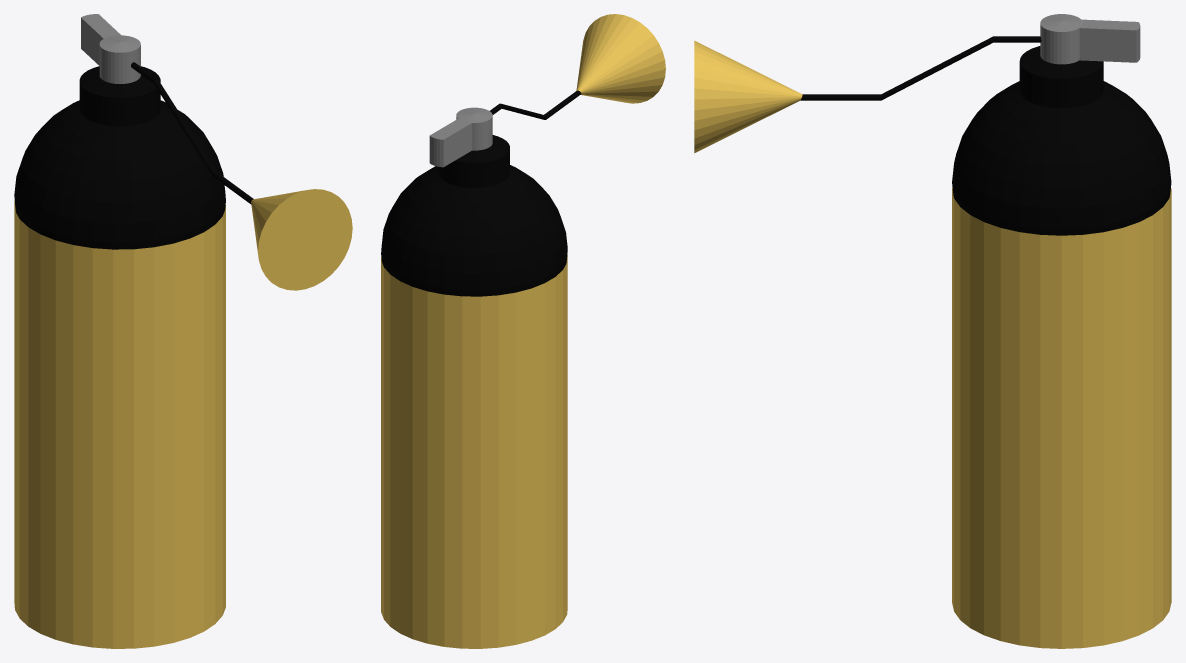
File: oxygentank.fbx
The picture shows the model from 3 angles, left to right: view 1: azimuth 30°, elevation 25°; view 2: azimuth 150°, elevation 25°; view 3: azimuth 270°, elevation 25°; orthographic projection. The views are drawn at different scales.
Visible parts, largest first — view 1: OxygenTankBase, OxygenTankTop, Cone, OxygenTankLit, String; view 2: OxygenTankBase, OxygenTankTop, Cone, OxygenTankLit, String; view 3: OxygenTankBase, OxygenTankTop, Cone, OxygenTankLit, String.
Part boxes in pixels (box(x1,y1,x2,y2)): OxygenTankBase: box(14, 201, 225, 648); OxygenTankTop: box(14, 66, 225, 249); Cone: box(251, 189, 352, 290); OxygenTankLit: box(81, 14, 140, 83); String: box(131, 62, 253, 204); OxygenTankBase: box(381, 254, 567, 648); OxygenTankTop: box(381, 135, 567, 296); Cone: box(576, 14, 665, 103); OxygenTankLit: box(429, 107, 492, 167); String: box(490, 90, 581, 119); OxygenTankBase: box(952, 187, 1171, 648); OxygenTankTop: box(952, 46, 1171, 235); Cone: box(694, 40, 802, 153); OxygenTankLit: box(1040, 14, 1140, 64); String: box(800, 36, 1041, 100).
Bounding box in the file's own units: 200 × 585 × 435.
